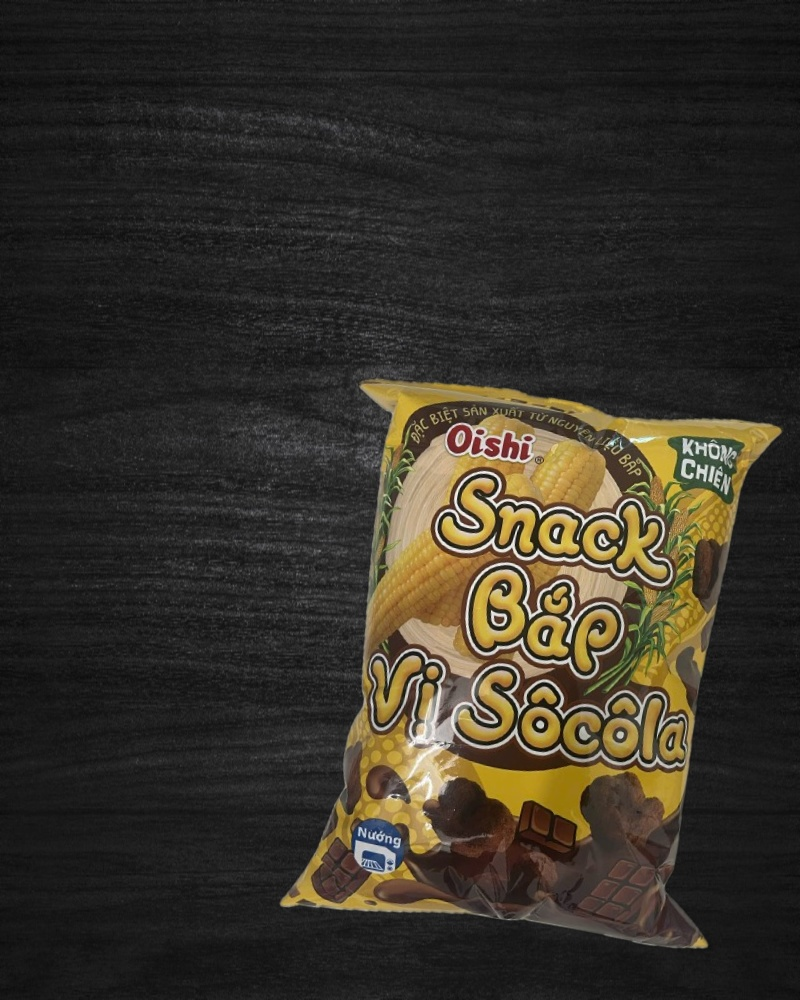Snack socola: (272, 357, 800, 970)
